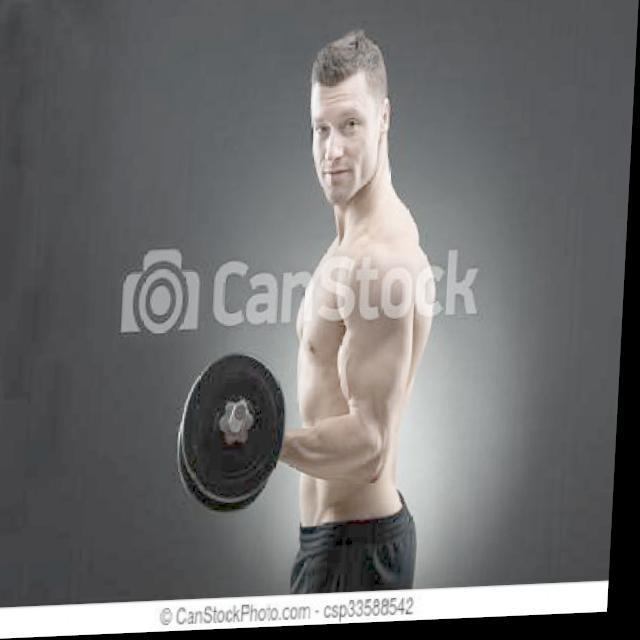barbell: (182, 345, 296, 515)
